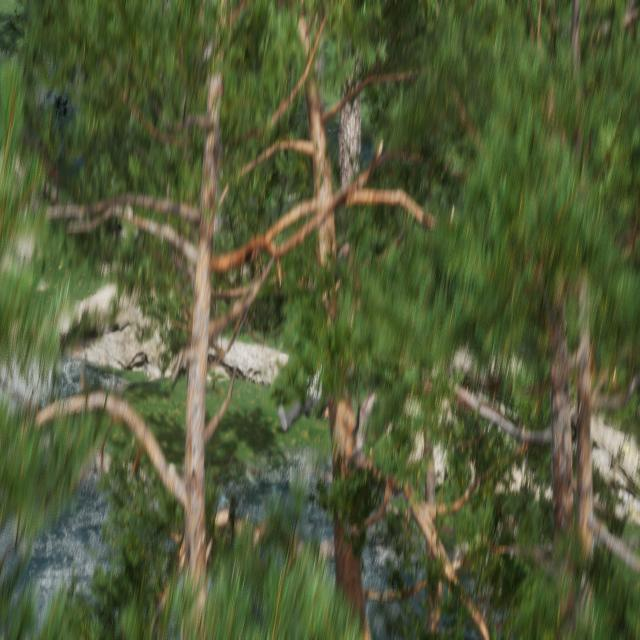Human: (274, 328, 336, 442)
